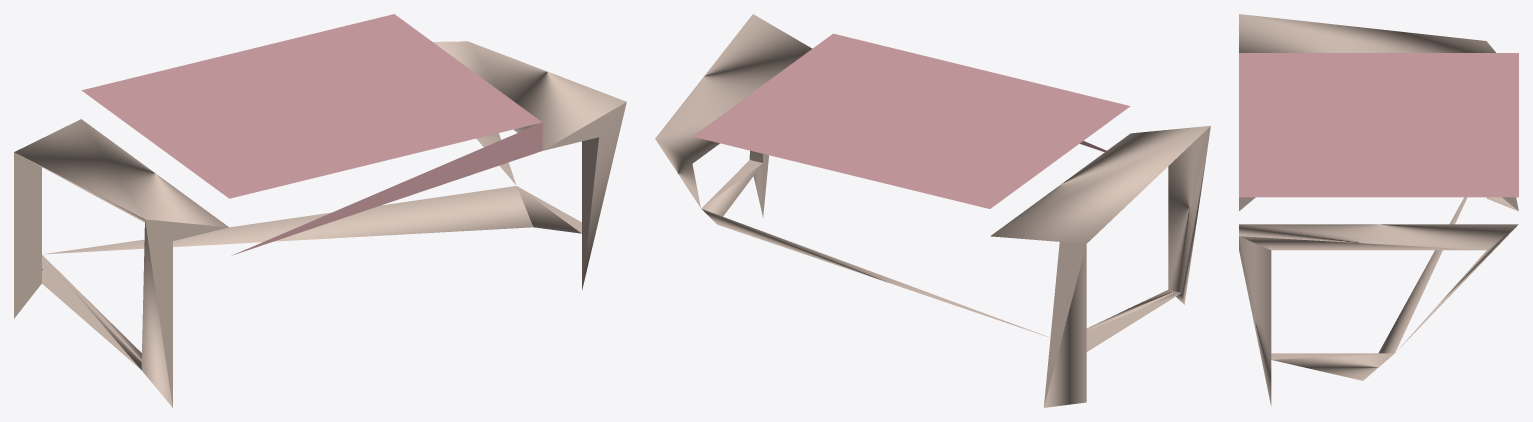
File: tableCloth.glb
3 renders of one model, left to right at view 1: azimuth 30°, elevation 25°; view 2: azimuth 150°, elevation 25°; view 3: azimuth 270°, elevation 25°, orthographic. The views are drawn at different scales.
Visible parts, largest first — view 1: tableCloth(Clone); view 2: tableCloth(Clone); view 3: tableCloth(Clone).
Part boxes in pixels (left/top/right/bottom): tableCloth(Clone): left=14, top=14, right=626, bottom=407; tableCloth(Clone): left=655, top=14, right=1210, bottom=407; tableCloth(Clone): left=1239, top=14, right=1518, bottom=405.
Bounding box in the file's own units: 0.8415 × 0.326 × 0.4479.
